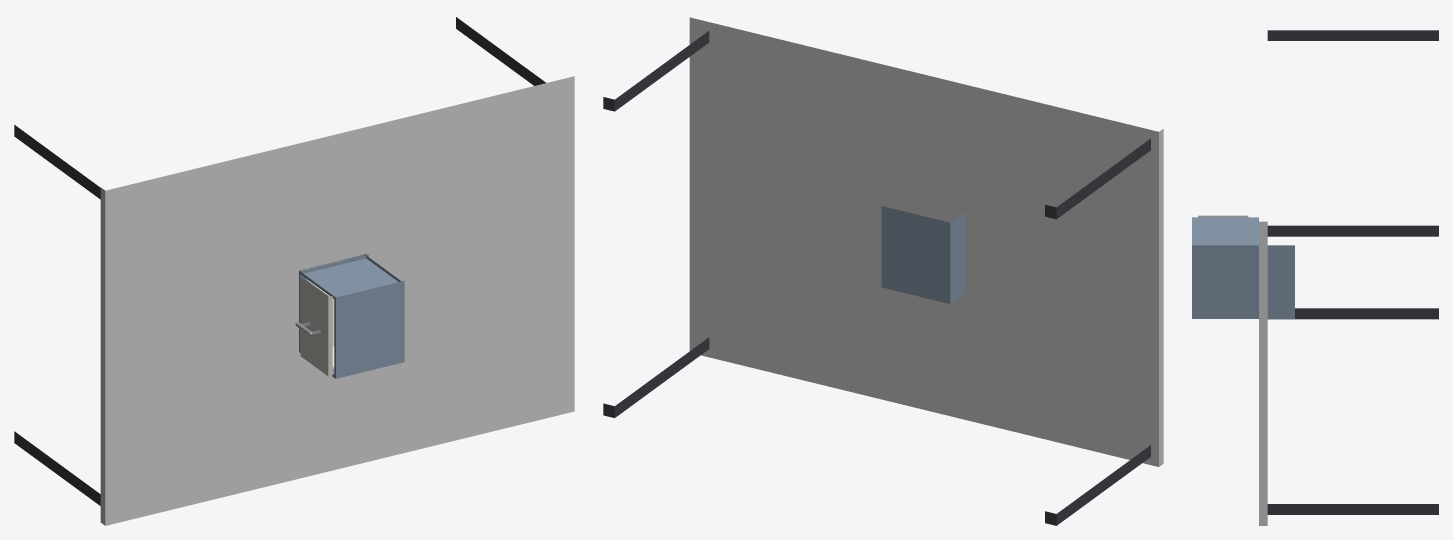
The model's file is t2_9e14fea123.glb.
3 renders of one model, left to right at view 1: azimuth 30°, elevation 25°; view 2: azimuth 150°, elevation 25°; view 3: azimuth 270°, elevation 25°, orthographic. The views are drawn at different scales.
Parts seen in each view (by area): view 1: s0, s1, s2; view 2: s0, s1; view 3: s0, s1.
Boxes of the visible parts, x1=… form: s0: x1=14, y1=17, x2=574, y2=525; s1: x1=299, y1=253, x2=404, y2=378; s2: x1=295, y1=277, x2=334, y2=376; s0: x1=603, y1=17, x2=1163, y2=525; s1: x1=881, y1=206, x2=965, y2=303; s0: x1=1259, y1=30, x2=1438, y2=525; s1: x1=1192, y1=217, x2=1294, y2=318.
Bounding box in the file's own units: 2.05 × 1.4 × 1.03.
